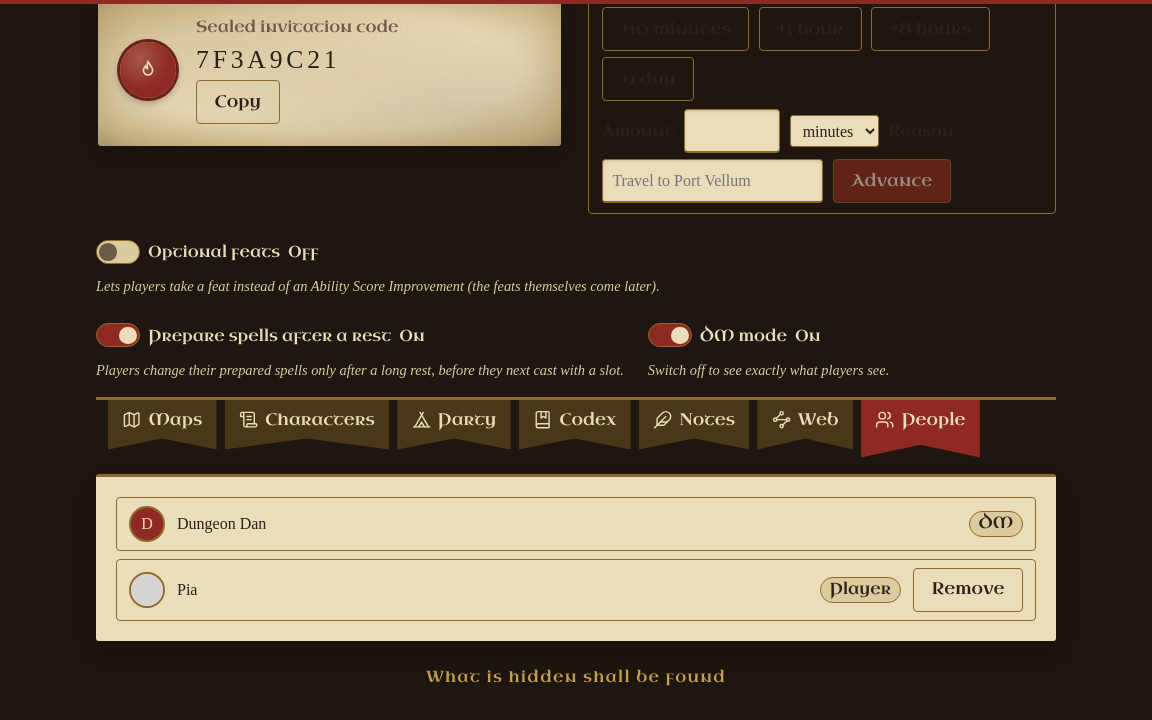
Test case: removing members (CAM-2) › a DM removes a player after confirming, and the list refreshes
This screenshot has width=1152, height=720.
(page scrolled)
Click the button with aria-label "Remove Pia": (968, 590) 913,568 -> 1023,612
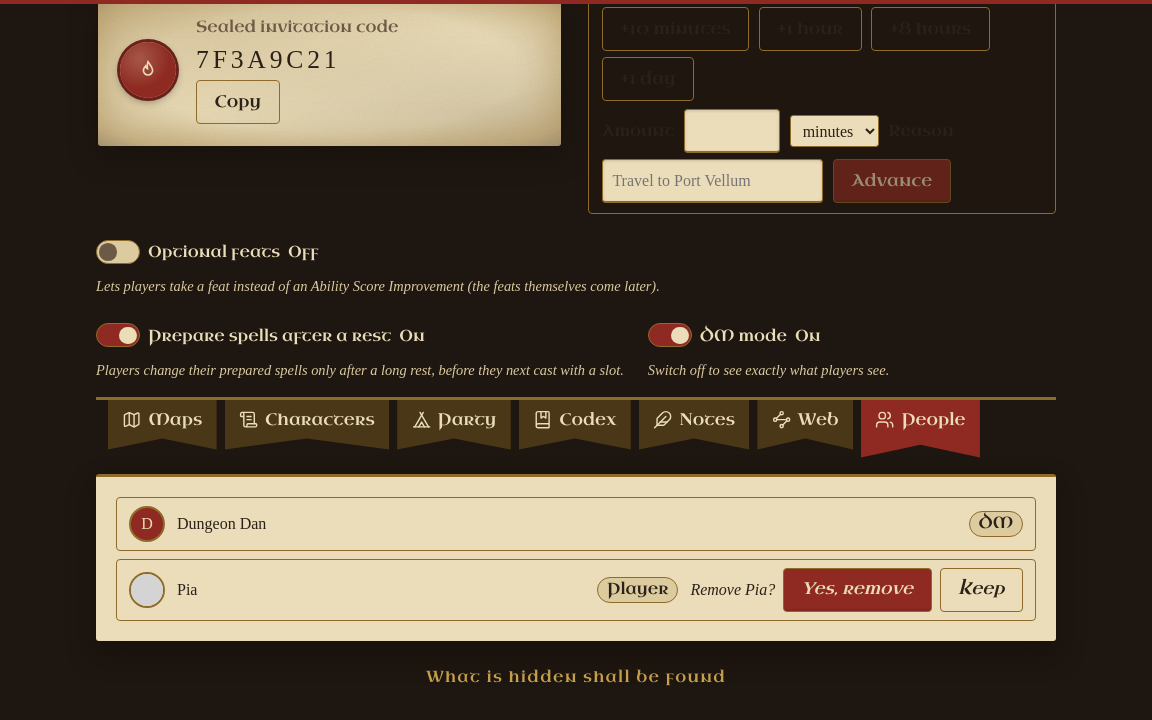
Result: the text "Remove Pia?" is shown at 690,578 -> 775,601
Click the button "Yes, remove": (857, 590) 783,568 -> 932,612
(page scrolled)
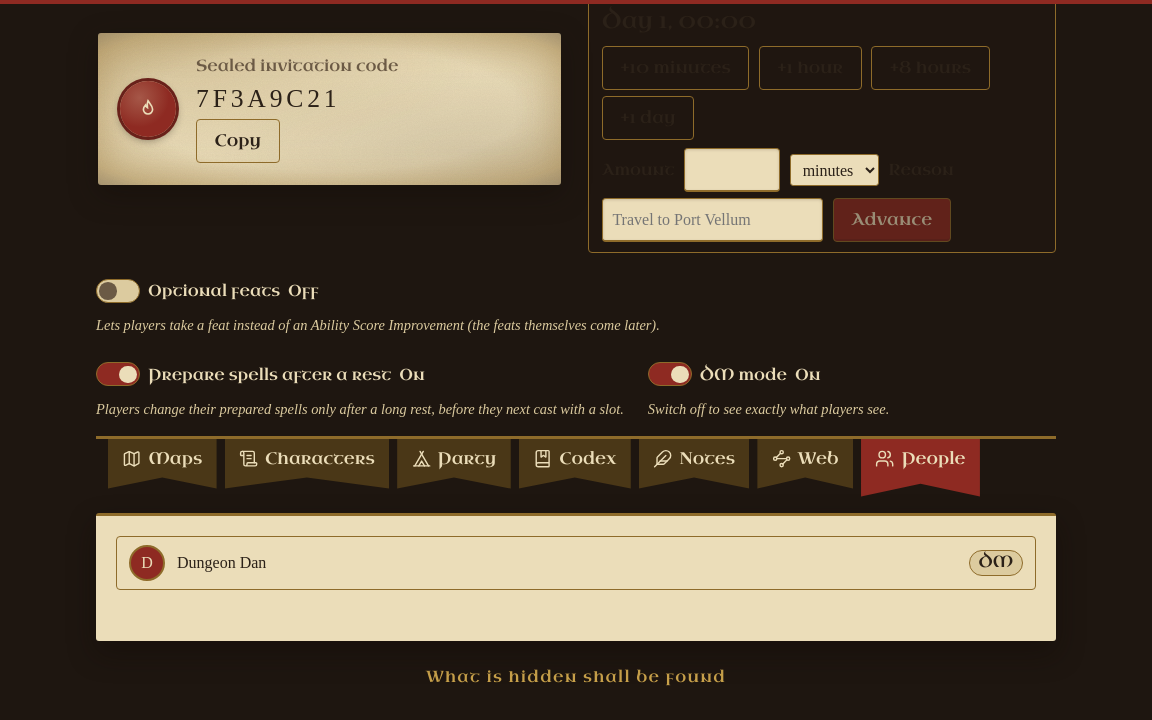
Result: the text "Pia" is gone
